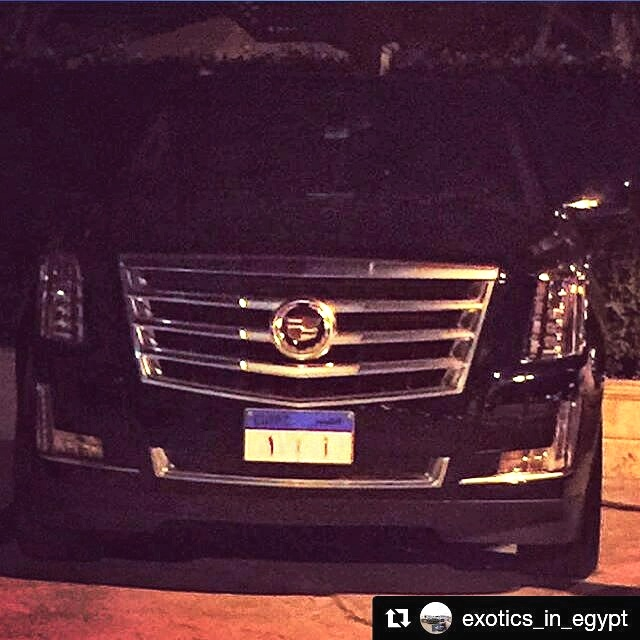License Plate: (239, 404, 358, 470)
